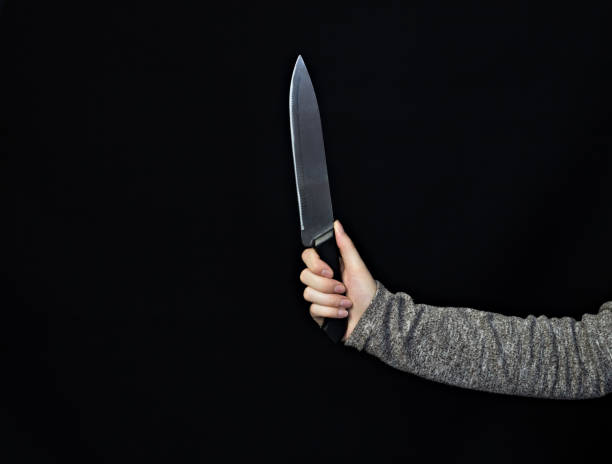knife: (283, 50, 352, 346)
